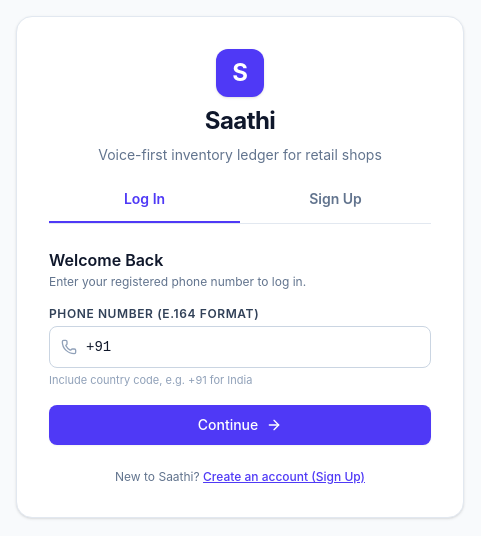
Test case: Login & Authentication Flow › submits login for existing user when login tab is active
The width and height of the screenshot is (481, 536).
Replace the text in the field with placeholder "+919876543210" with "+919876543210" at (240,347), box [49, 326, 431, 368]
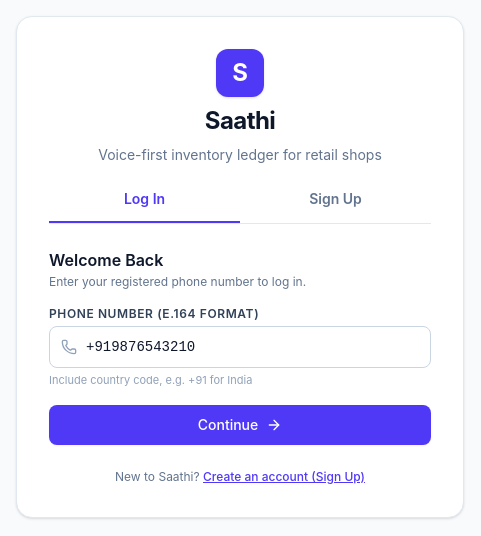
Click the button "Continue" at (240,425), box [49, 405, 431, 445]
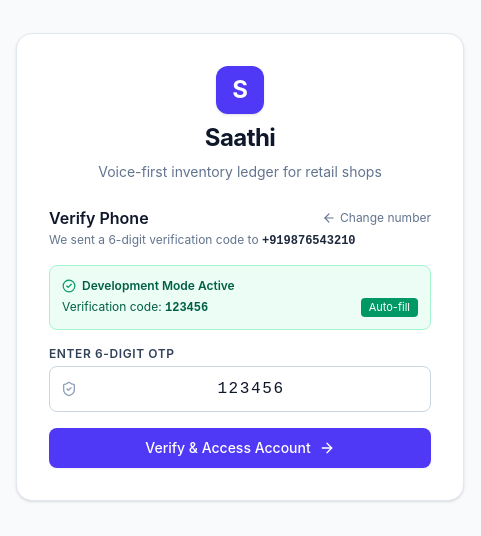
Check: the text "Enter 6-Digit OTP" is shown, box [49, 346, 175, 361]
